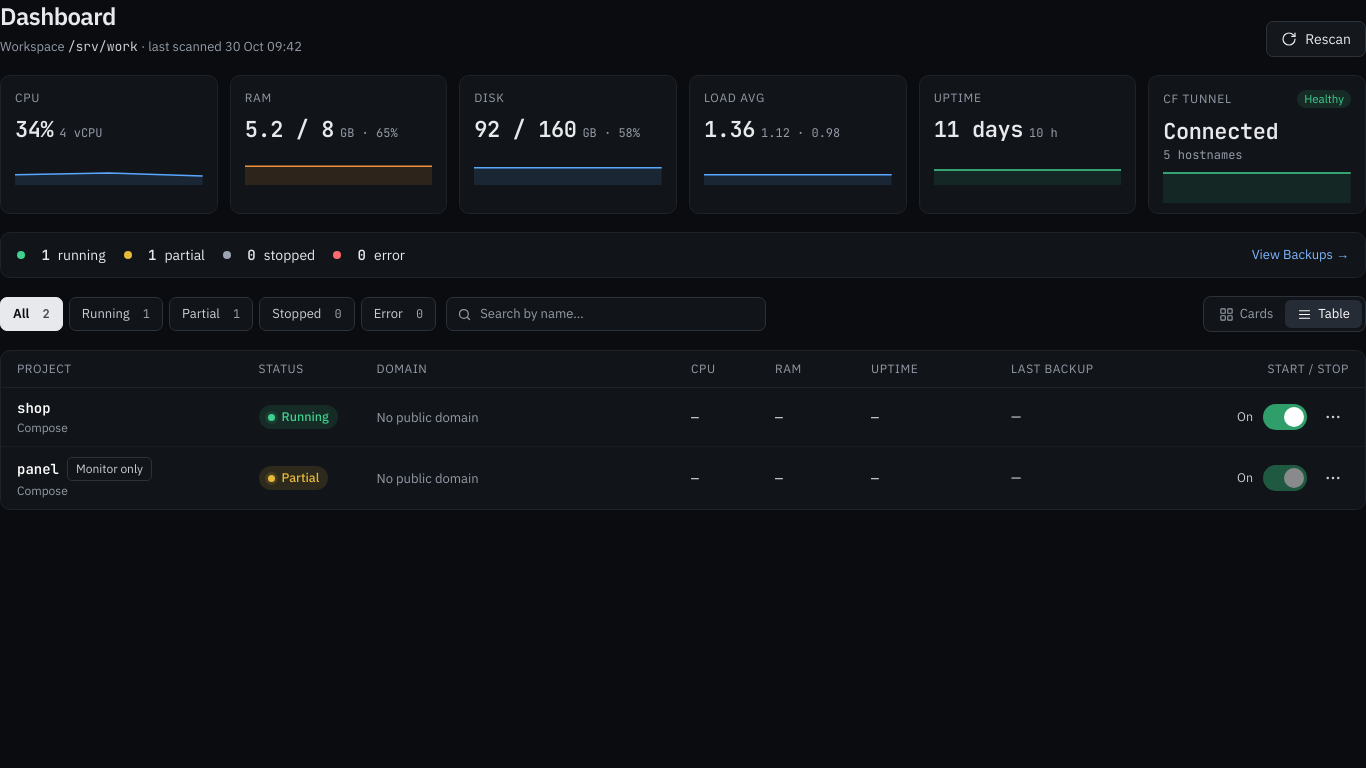
Test case: DashboardPage › table view › runs a stop from a row, through the same confirm
The width and height of the screenshot is (1366, 768).
Expected: the row "shop Compose Running No public domain — — — — On" is shown, [1,388,1365,447]
Step 1. Click the switch named "Stop shop" → (1285, 417), box [1263,404,1307,430]
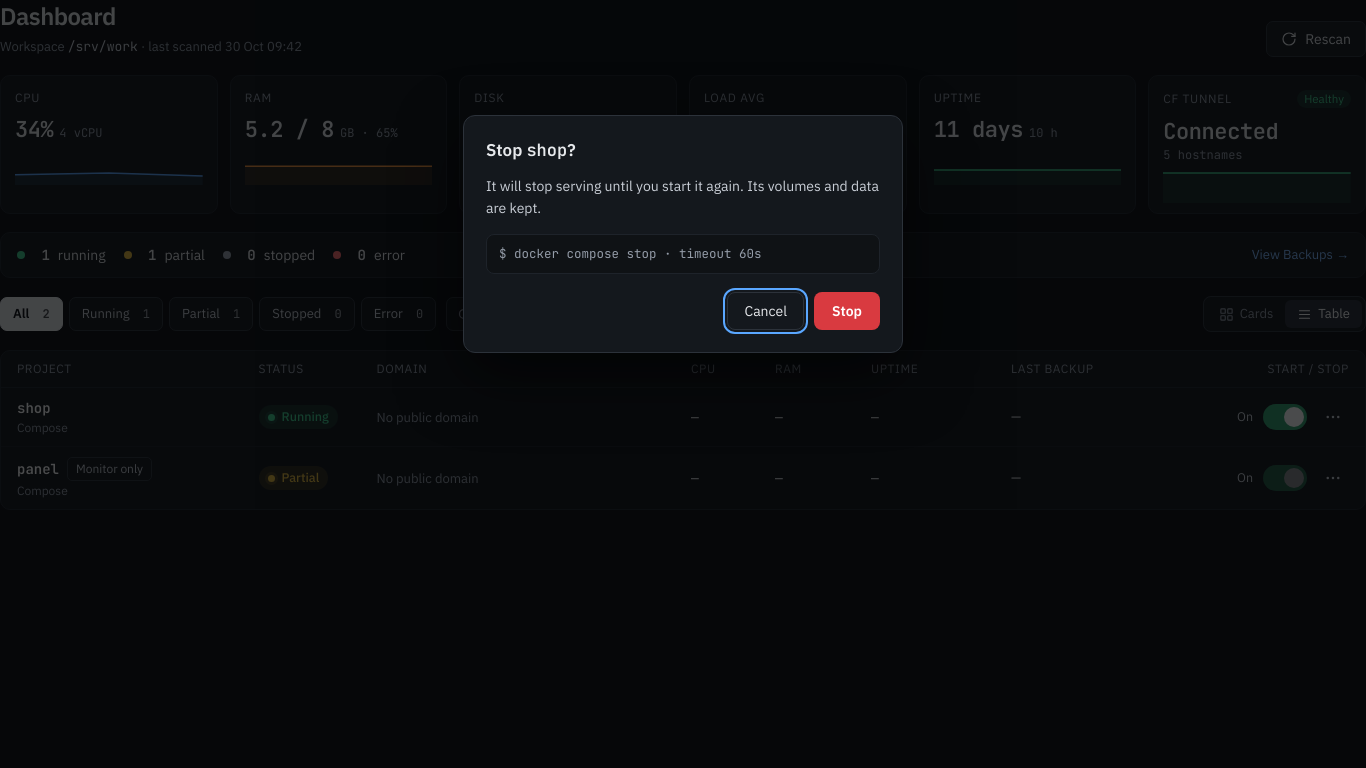
Step 2. Click the button "Stop" → (847, 311), box [814,292,880,330]
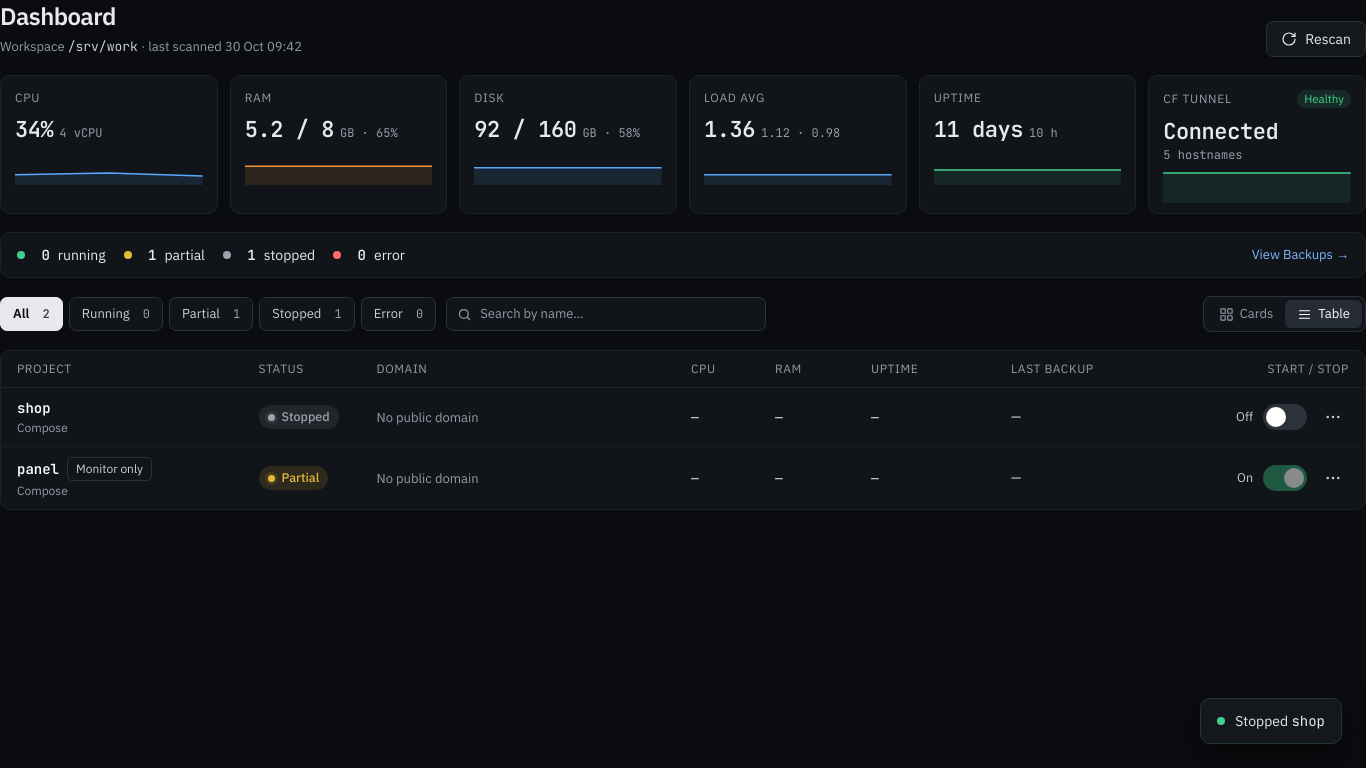
Result: the element with test id "toast-success" reads "Stopped shop" at [1200,698,1342,744]
Result: the text "Stopped" is shown at [282,408,330,426]
